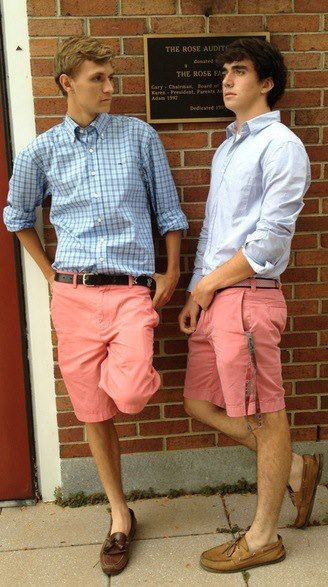Person: (5, 37, 186, 575), (180, 37, 322, 575)
